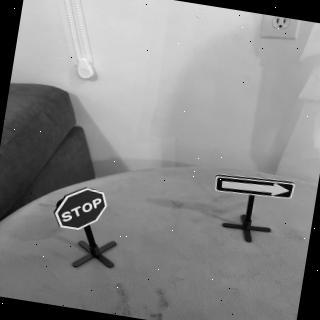sign_oneway_right: (213, 170, 298, 206)
sign_stop: (53, 183, 112, 237)
